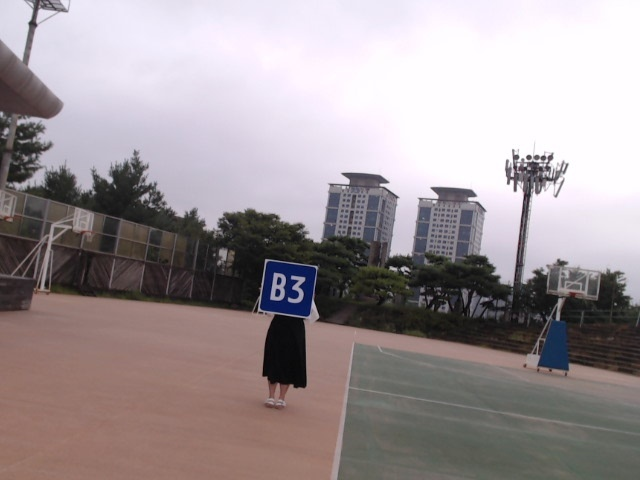delivery_b3: (259, 260, 317, 318)
